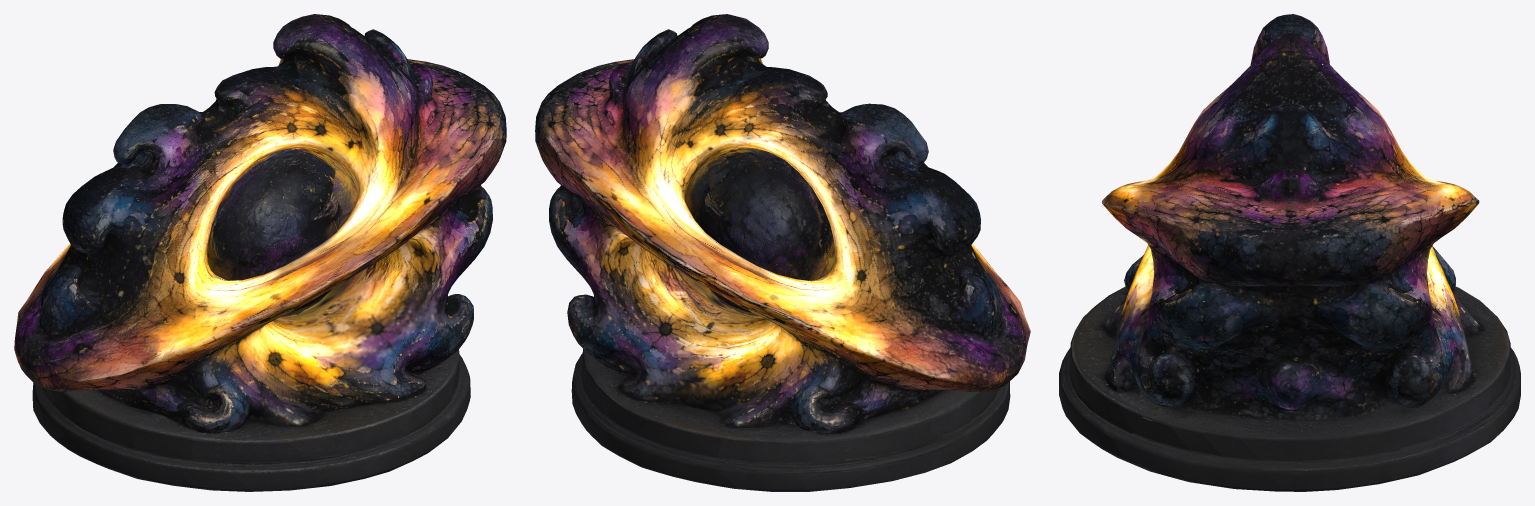
File: Nexus3d.glb
3 renders of one model, left to right at view 1: azimuth 30°, elevation 25°; view 2: azimuth 150°, elevation 25°; view 3: azimuth 270°, elevation 25°, orthographic. The views are drawn at different scales.
Bounding box in the file's own units: 1.91 × 1.44 × 1.56.
Materials: 1 (1 with a texture image).
